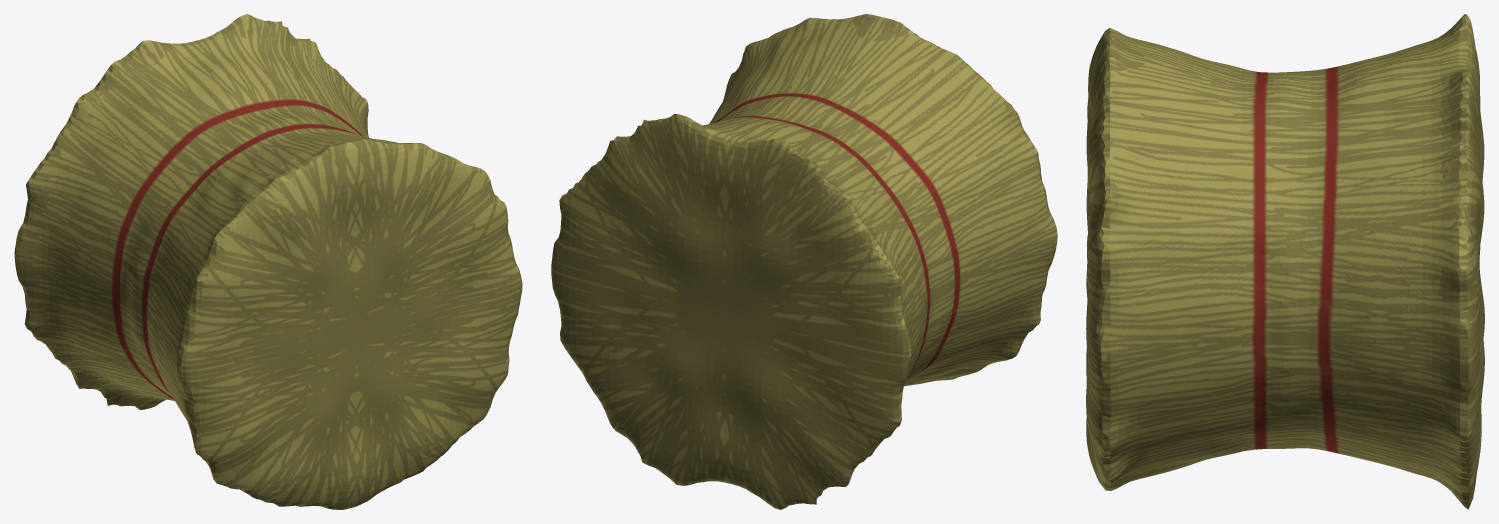
The model's file is HayBale.fbx.
3 renders of one model, left to right at view 1: azimuth 30°, elevation 25°; view 2: azimuth 150°, elevation 25°; view 3: azimuth 270°, elevation 25°, orthographic. The views are drawn at different scales.
Visible parts, largest first — view 1: Cylinder.002; view 2: Cylinder.002; view 3: Cylinder.002.
Part boxes in pixels (x1,y1,x2,y2): Cylinder.002: (14, 14, 522, 509); Cylinder.002: (551, 14, 1057, 509); Cylinder.002: (1086, 14, 1484, 509).
Bounding box in the file's own units: 512 × 506 × 423.
1 material, 1 textured.
